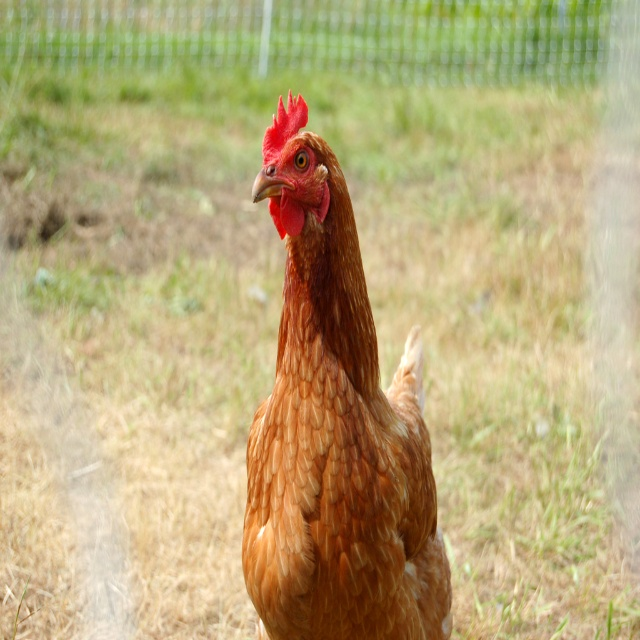Chicken: (233, 92, 452, 639)
